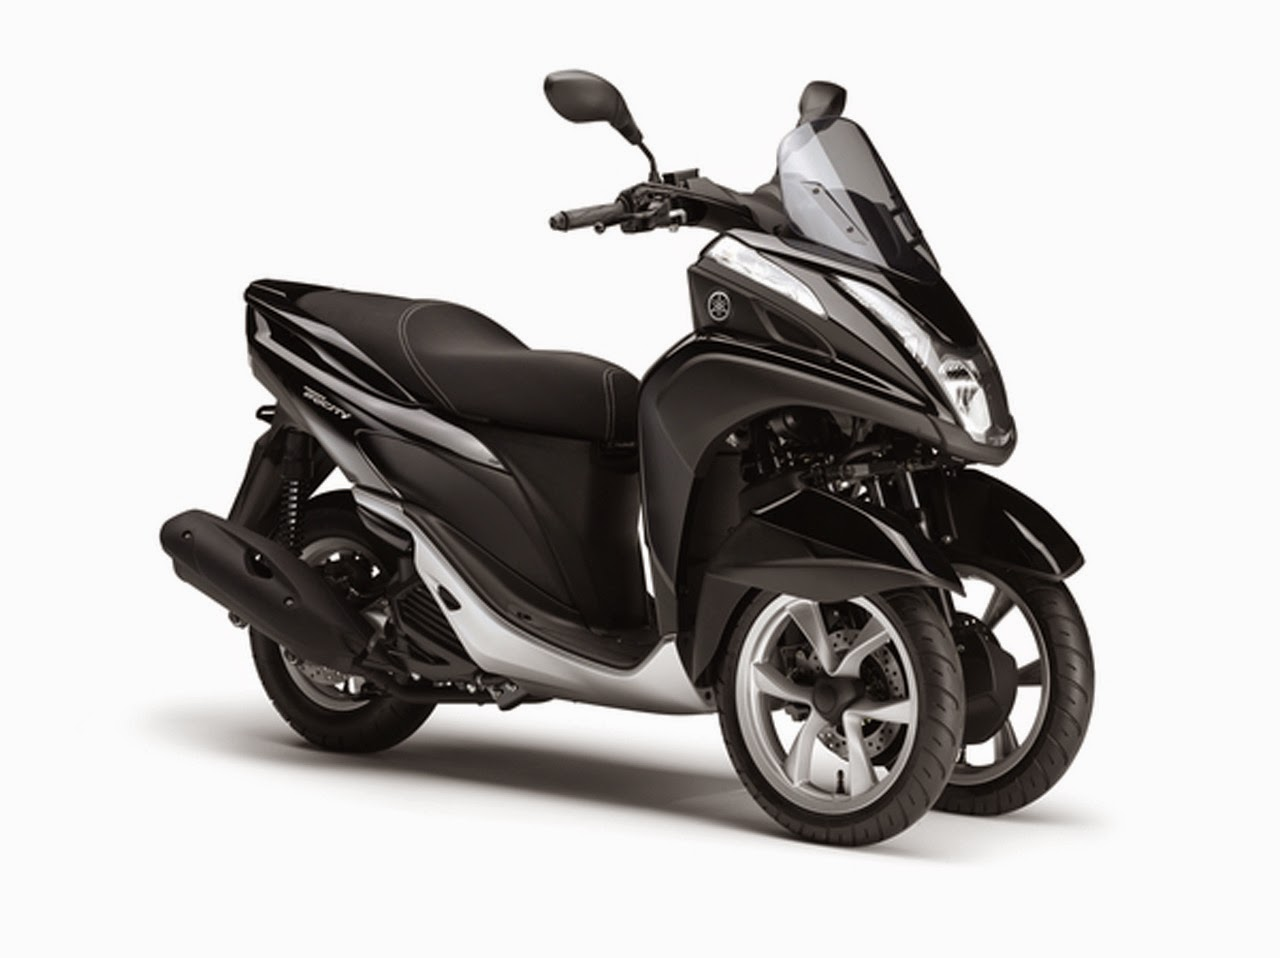motorcycle: (156, 158, 1100, 851)
